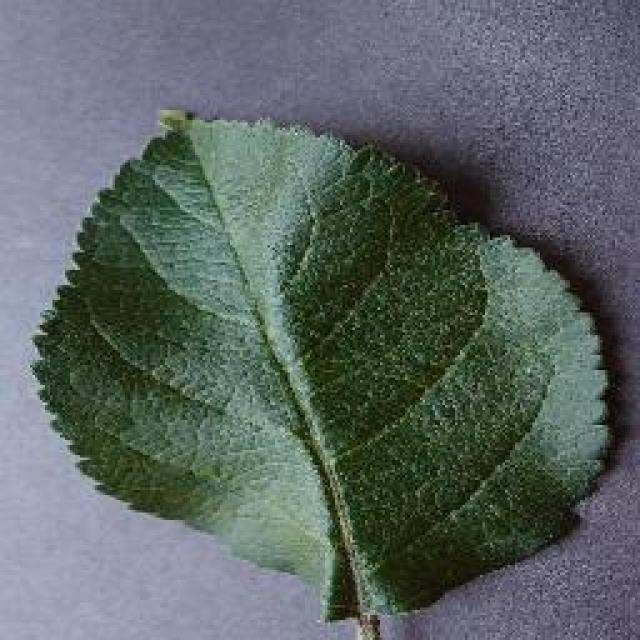apple healthy: (28, 102, 618, 630)
